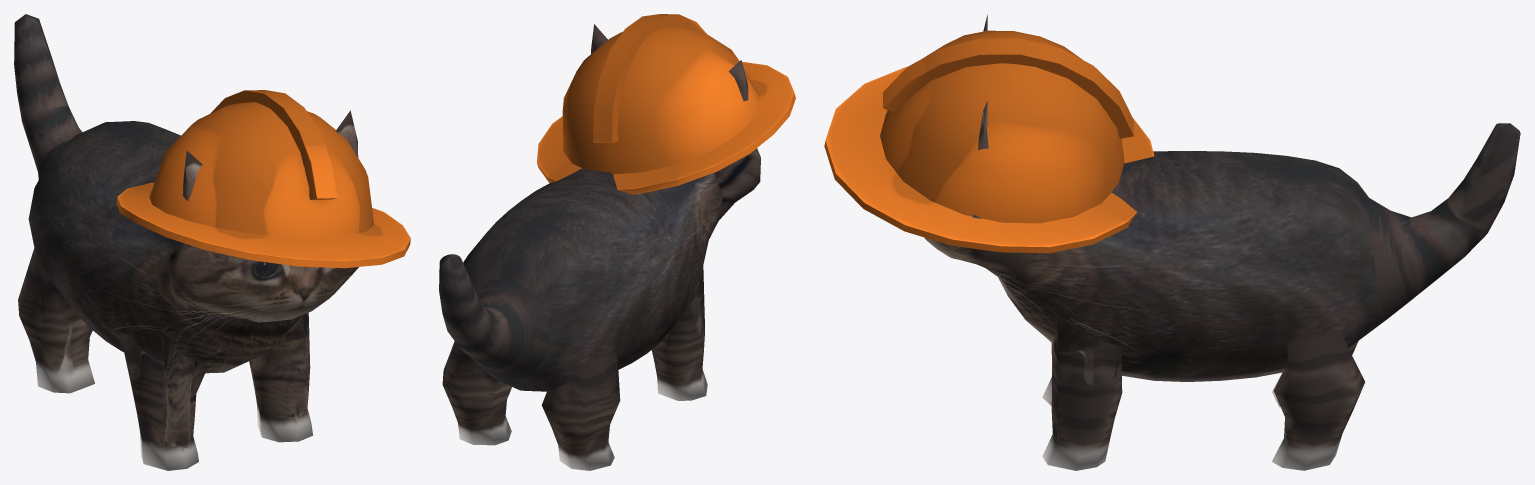
The model's file is cat_engineer_hd.glb.
3 views of the same model, side by side, from view 1: azimuth 30°, elevation 25°; view 2: azimuth 150°, elevation 25°; view 3: azimuth 270°, elevation 25° (orthographic). The views are drawn at different scales.
Visible parts, largest first — view 1: Cat, HardHat_LP; view 2: Cat, HardHat_LP; view 3: Cat, HardHat_LP.
Boxes of the visible parts, x1,y1,x2,y2 form: Cat: (14,14,358,470); HardHat_LP: (116,90,410,268); Cat: (439,24,760,470); HardHat_LP: (537,14,795,194); Cat: (924,14,1520,470); HardHat_LP: (824,30,1154,253).
Size of the model in its own units: 0.3225 by 0.4576 by 0.7326.
2 materials, 2 textured.
